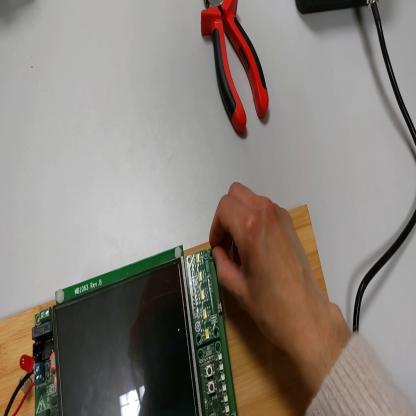hand: (209, 182, 324, 359)
low voltage board: (4, 244, 238, 415)
pliers: (203, 3, 270, 138)
welder station: (296, 1, 378, 14)
working area: (2, 204, 330, 416)
